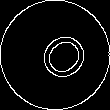O_SW: (22, 22, 88, 88)
